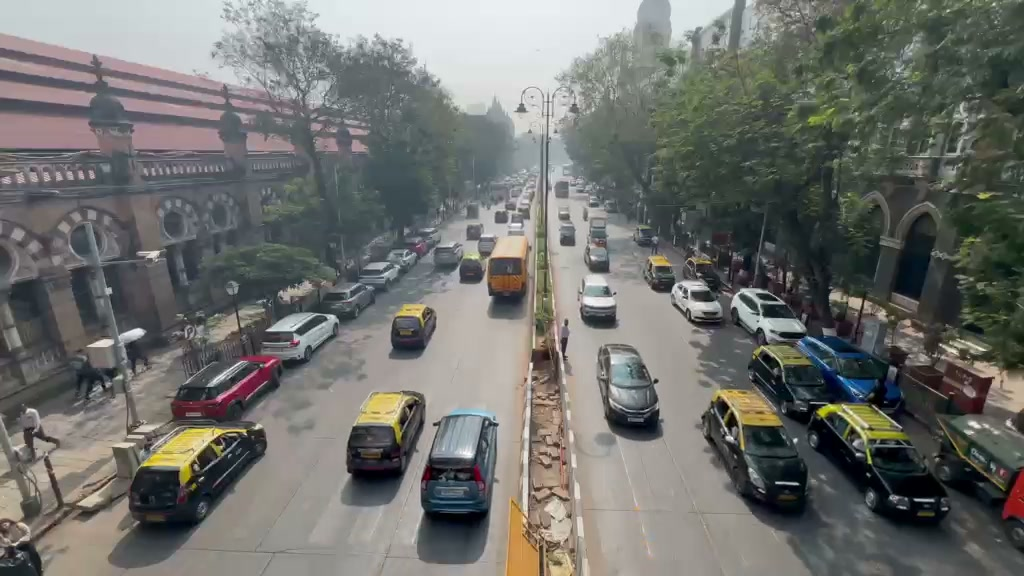bus: (486, 237, 529, 297)
car: (127, 423, 268, 525), (420, 408, 500, 520), (170, 353, 283, 422), (935, 413, 1024, 498), (799, 334, 901, 406), (345, 389, 426, 479), (748, 342, 833, 422), (595, 343, 661, 427), (257, 311, 339, 366), (731, 288, 808, 344), (317, 278, 376, 321), (670, 279, 724, 324), (389, 303, 437, 353), (0, 523, 43, 574), (1000, 467, 1024, 552), (579, 278, 619, 327), (642, 255, 677, 292), (432, 241, 463, 270), (386, 247, 418, 270), (458, 256, 484, 283), (586, 245, 609, 271)
truck: (806, 401, 951, 526), (698, 386, 810, 514), (934, 413, 1023, 504)
